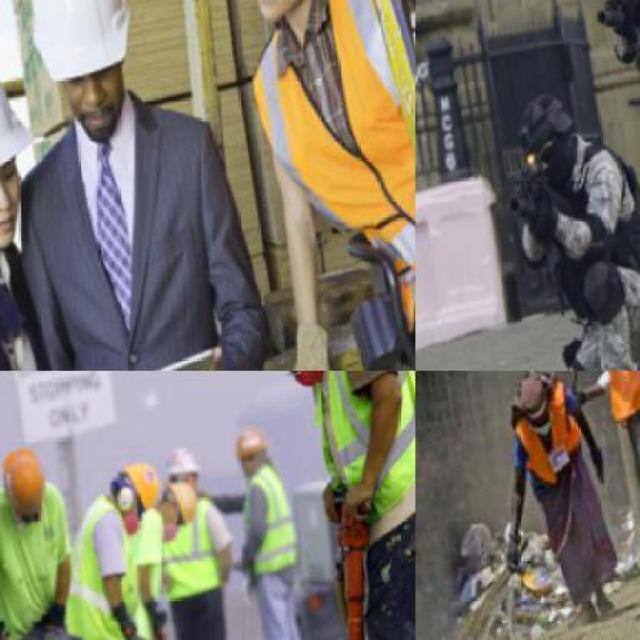Vest: (228, 0, 414, 342), (522, 138, 638, 312), (303, 370, 414, 548), (49, 476, 151, 638), (148, 492, 232, 612), (229, 471, 300, 591), (504, 400, 590, 492), (592, 370, 638, 428)
